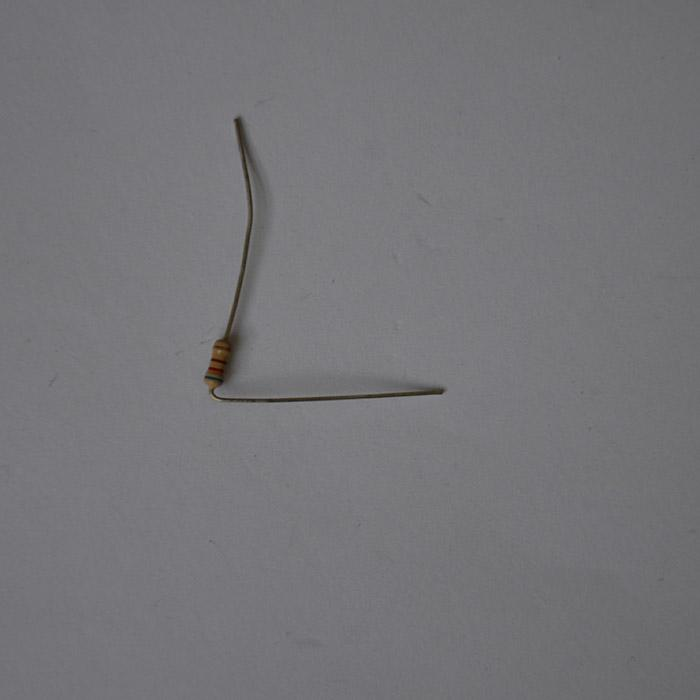resistor: (204, 337, 233, 392)
